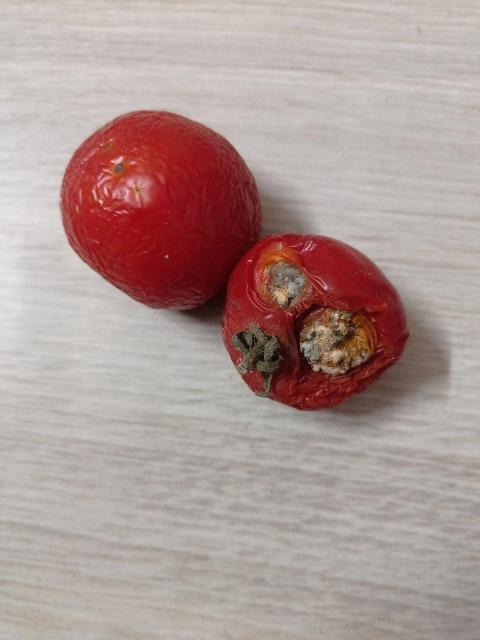defect: (216, 230, 414, 414)
